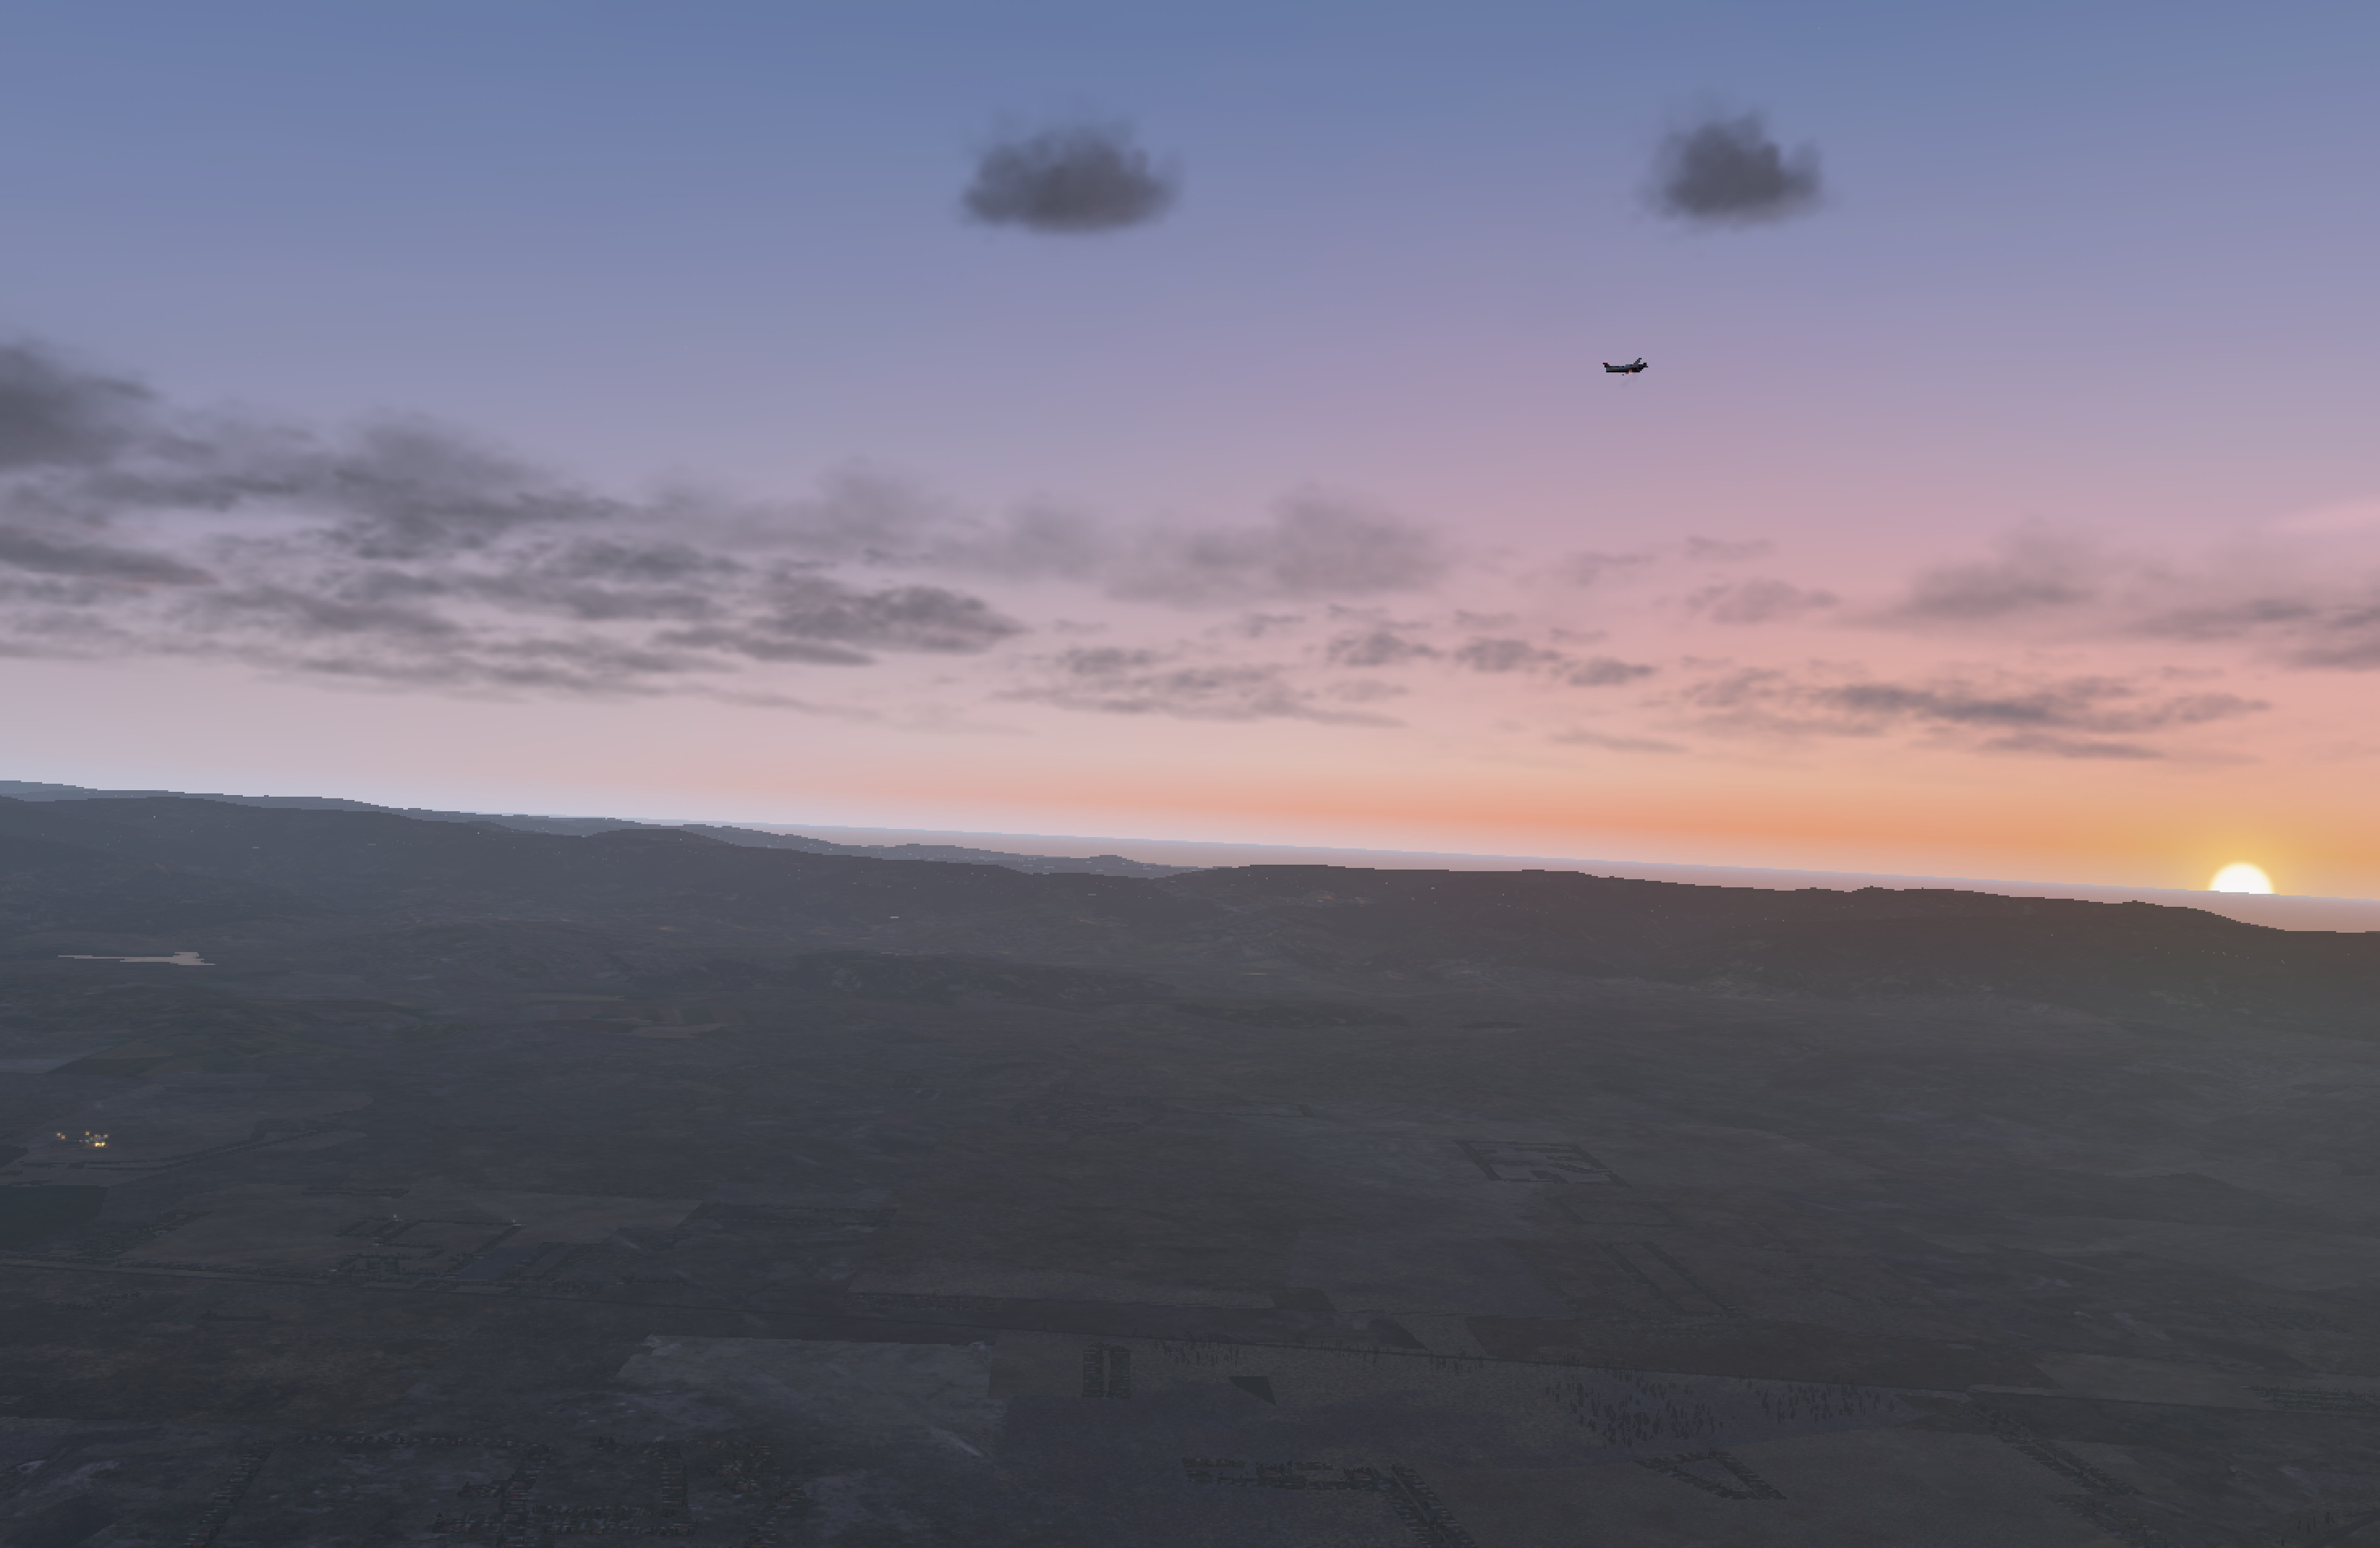aircraft: (1603, 359, 1665, 382)
